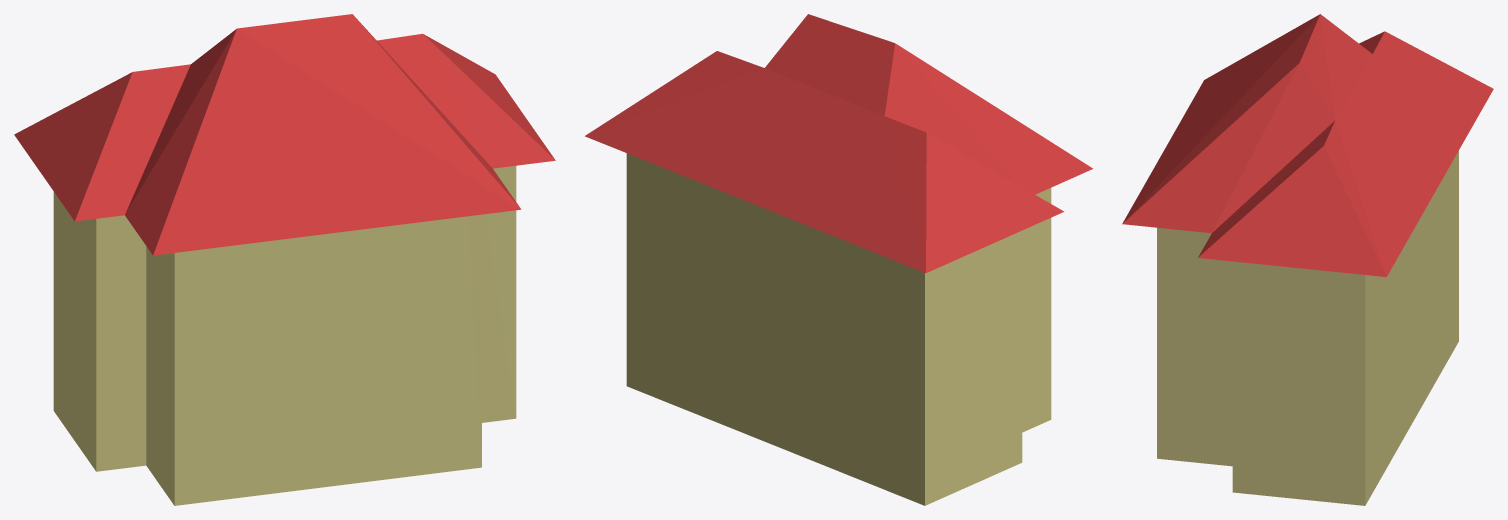
3 renders of one model, left to right at view 1: azimuth 30°, elevation 25°; view 2: azimuth 150°, elevation 25°; view 3: azimuth 270°, elevation 25°, orthographic. The views are drawn at different scales.
Visible parts, largest first — view 1: group_5, group_3, group_4; view 2: group_5, group_3, group_4; view 3: group_5, group_3, group_4.
Part boxes in pixels (x1=…): group_5: x1=53, y1=165, x2=516, y2=505; group_3: x1=16, y1=14, x2=555, y2=255; group_4: x1=14, y1=62, x2=554, y2=254; group_5: x1=626, y1=153, x2=1051, y2=505; group_3: x1=585, y1=14, x2=1092, y2=272; group_4: x1=924, y1=145, x2=1064, y2=272; group_5: x1=1157, y1=151, x2=1458, y2=505; group_3: x1=1122, y1=14, x2=1493, y2=276; group_4: x1=1123, y1=67, x2=1489, y2=276.
Size of the model in its own units: 16.95 by 12.83 by 14.29.
